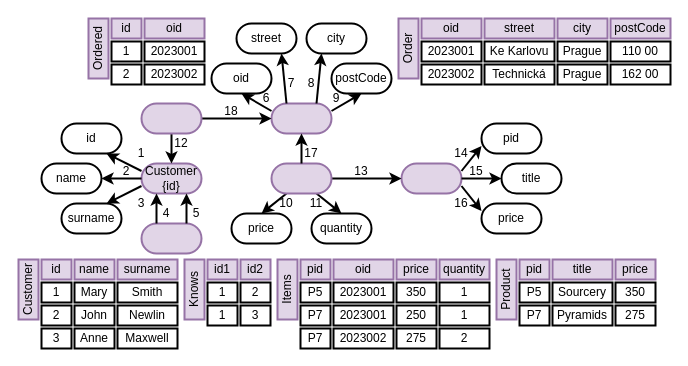
Some shapes in this 688 by 366 pixel diagram are drawn without their labels. Each missing label, with the centre of its shape:
Items {oid,pid}: pixel 301 178
Knows {id,id}: pixel 171 238
Order {oid}: pixel 301 118
Ordered {id,oid}: pixel 171 118
Product {pid}: pixel 431 178
